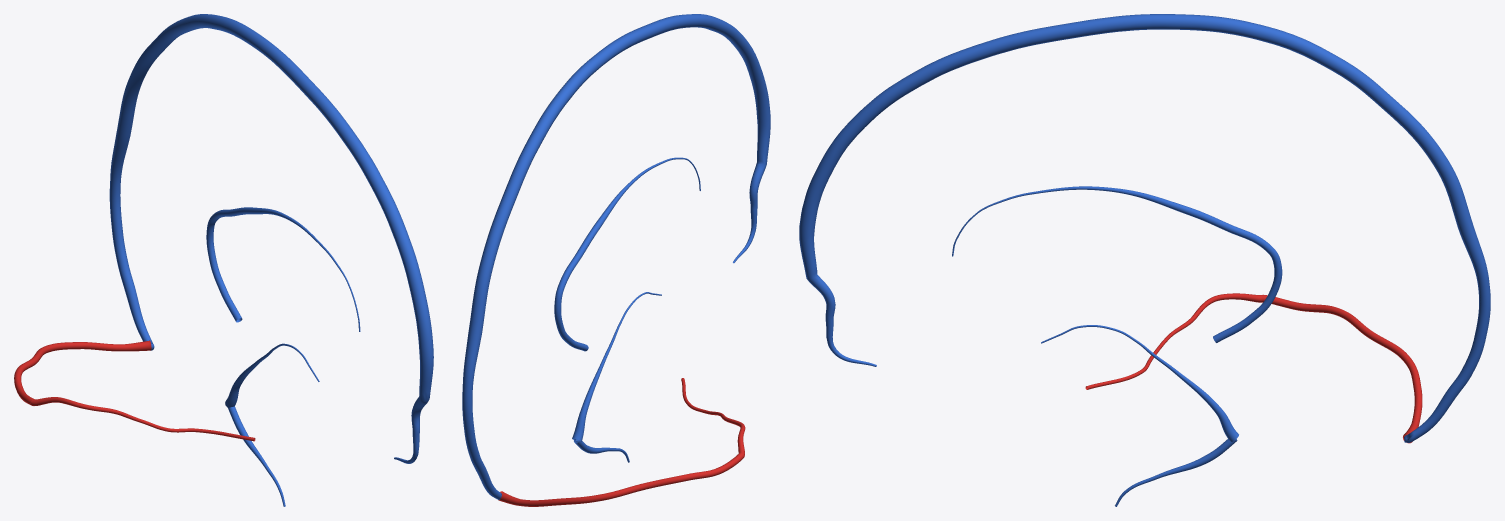
Rendered from circulatorio-transverse-sinus-r.glb.
3 renders of one model, left to right at view 1: azimuth 30°, elevation 25°; view 2: azimuth 150°, elevation 25°; view 3: azimuth 270°, elevation 25°, orthographic. The views are drawn at different scales.
Parts seen in each view (by area): view 1: Superior sagittal sinus, Inferior sagittal sinus, Transverse sinus.r, Superior petrosal sinus.r, Straight sinus, Occipital sinus; view 2: Superior sagittal sinus, Transverse sinus.r, Inferior sagittal sinus, Straight sinus, Superior petrosal sinus.r; view 3: Superior sagittal sinus, Inferior sagittal sinus, Transverse sinus.r, Straight sinus, Superior petrosal sinus.r, Occipital sinus.
Part boxes in pixels (<box>): Superior sagittal sinus: <box>109,14,433,463</box>; Inferior sagittal sinus: <box>206,207,360,331</box>; Transverse sinus.r: <box>14,340,151,404</box>; Superior petrosal sinus.r: <box>30,397,255,441</box>; Straight sinus: <box>225,343,319,407</box>; Occipital sinus: <box>228,406,285,506</box>; Superior sagittal sinus: <box>462,14,770,499</box>; Transverse sinus.r: <box>498,452,744,506</box>; Inferior sagittal sinus: <box>554,157,700,351</box>; Straight sinus: <box>572,292,661,441</box>; Superior petrosal sinus.r: <box>681,378,745,455</box>; Superior sagittal sinus: <box>799,14,1490,442</box>; Inferior sagittal sinus: <box>952,186,1282,342</box>; Transverse sinus.r: <box>1261,294,1422,443</box>; Straight sinus: <box>1041,325,1238,441</box>; Superior petrosal sinus.r: <box>1085,293,1261,389</box>; Occipital sinus: <box>1115,439,1237,506</box>.
Size of the model in its own units: 0.0626 by 0.1391 by 0.1772.
